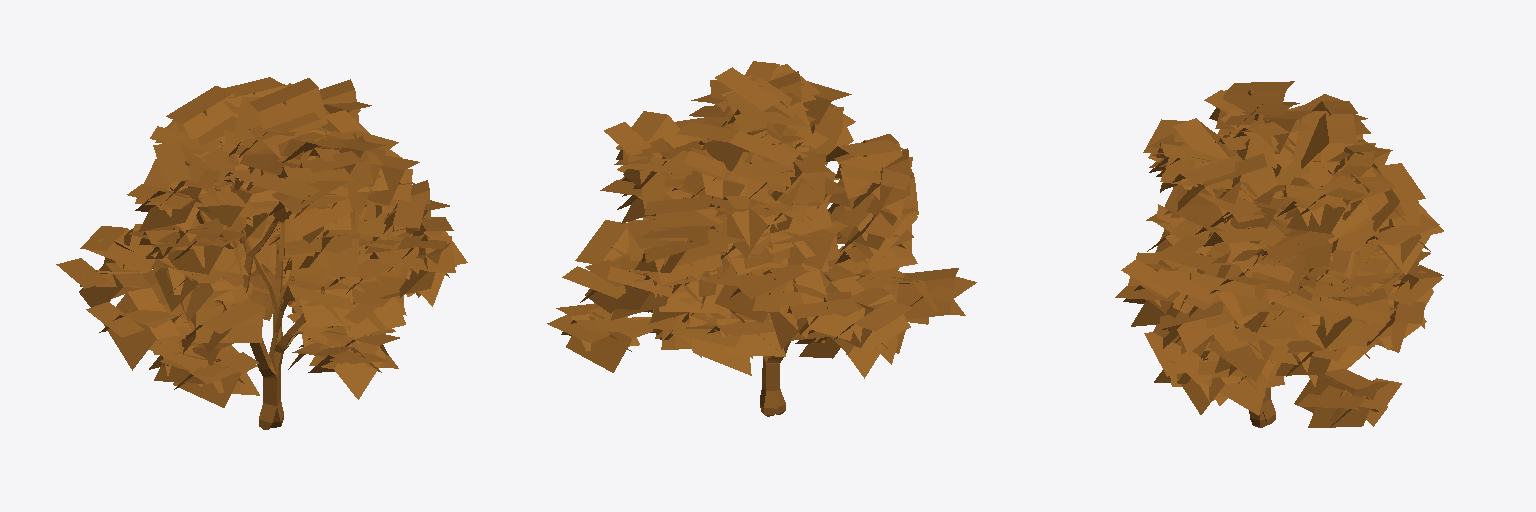
The model's file is tree_3.obj.
3 renders of one model, left to right at view 1: azimuth 30°, elevation 25°; view 2: azimuth 150°, elevation 25°; view 3: azimuth 270°, elevation 25°, orthographic.
Visible parts, largest first — view 1: Wallnut_; view 2: Wallnut_; view 3: Wallnut_.
Part boxes in pixels (x1,y1,x2,y2): Wallnut_: (56,77,467,429); Wallnut_: (547,61,976,416); Wallnut_: (1115,81,1443,427).
Bounding box in the file's own units: 1.55 × 1.41 × 1.27.